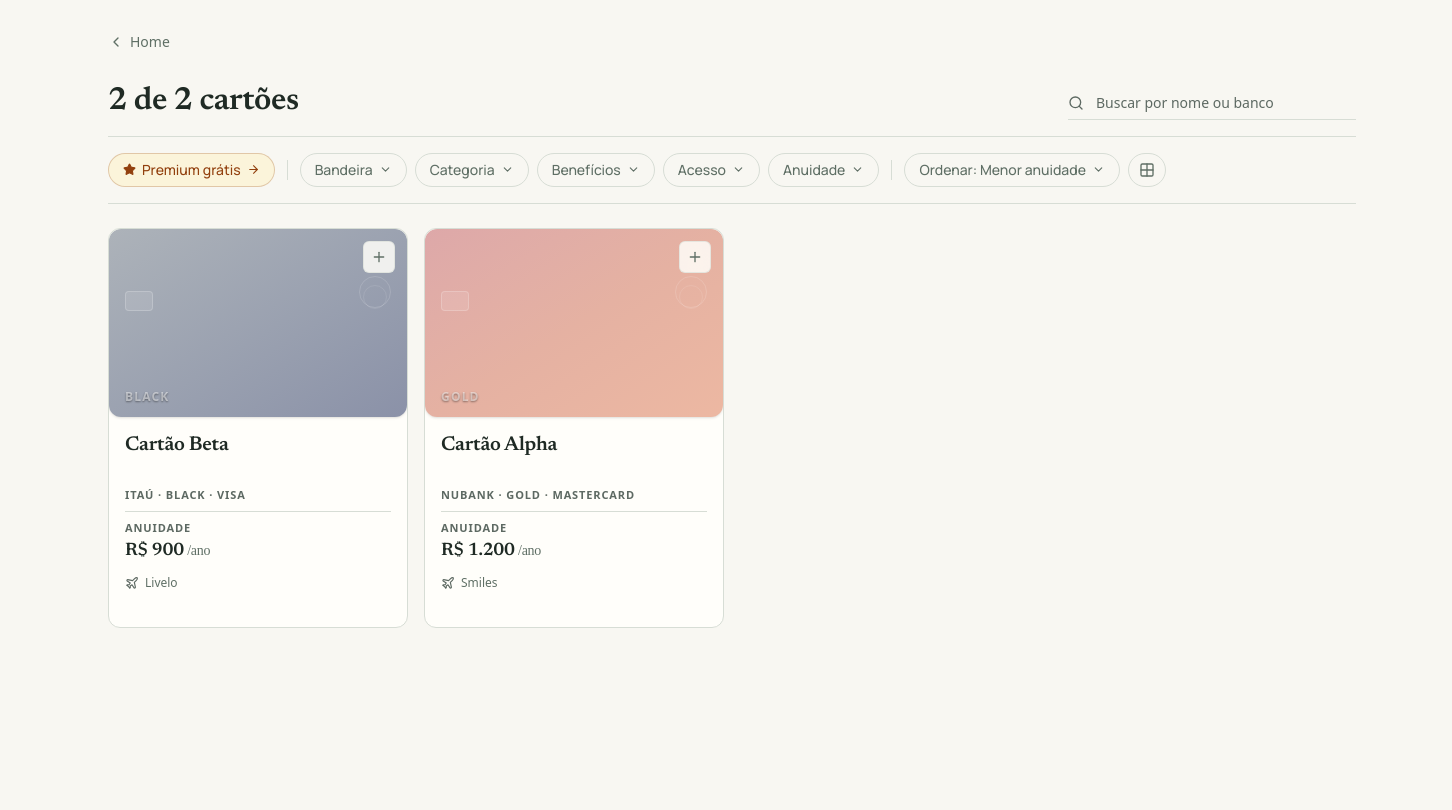
Scenario: catalog sorting › updates the URL when the sort changes
The image size is (1452, 810).
Click the button "Ordenar: Menor anuidade" at (1012, 170), box [904, 153, 1120, 187]
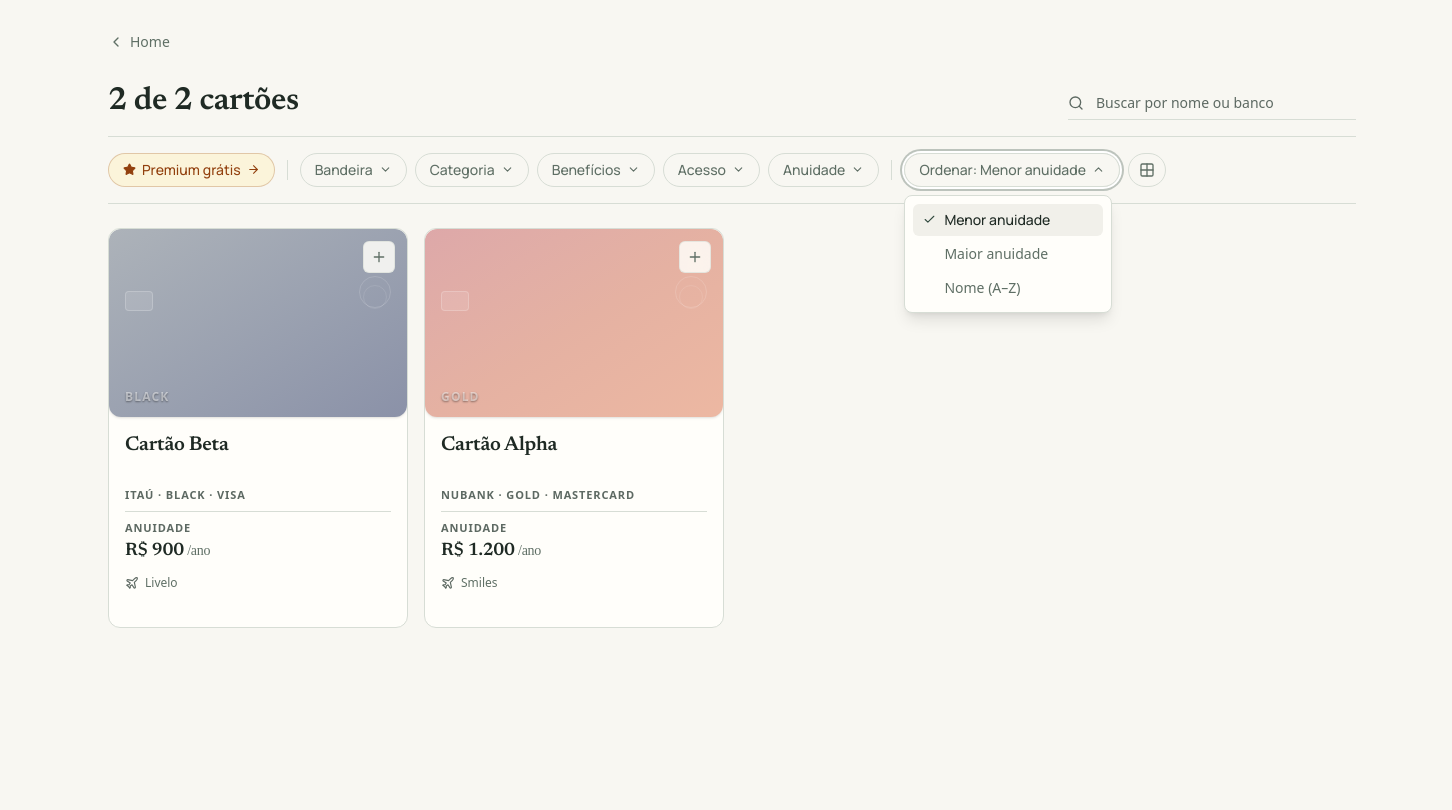
Click the button "Maior anuidade" at (1008, 254), box [913, 238, 1103, 270]
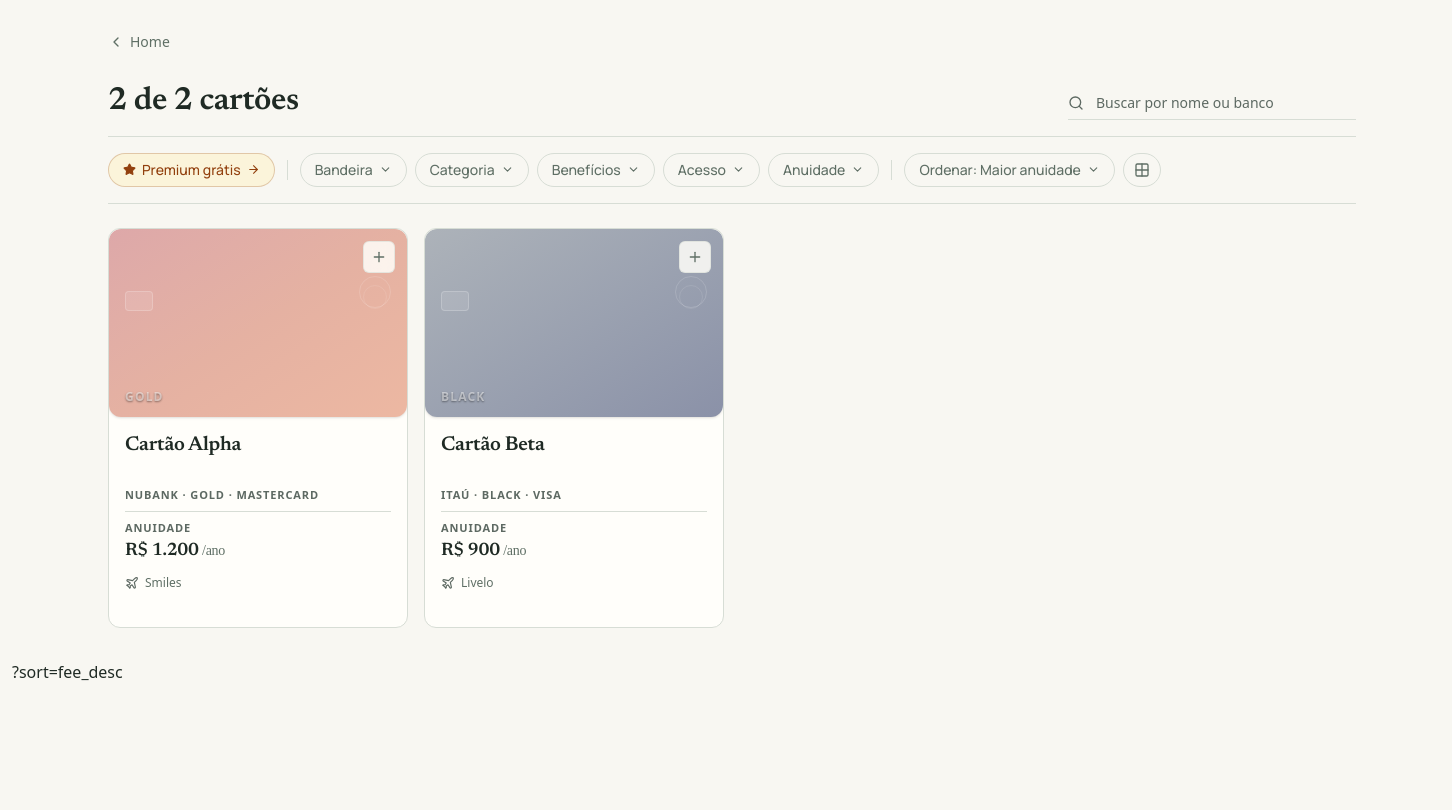
Check: the text named "url-search" shows "sort=fee_desc", box [12, 661, 123, 683]
